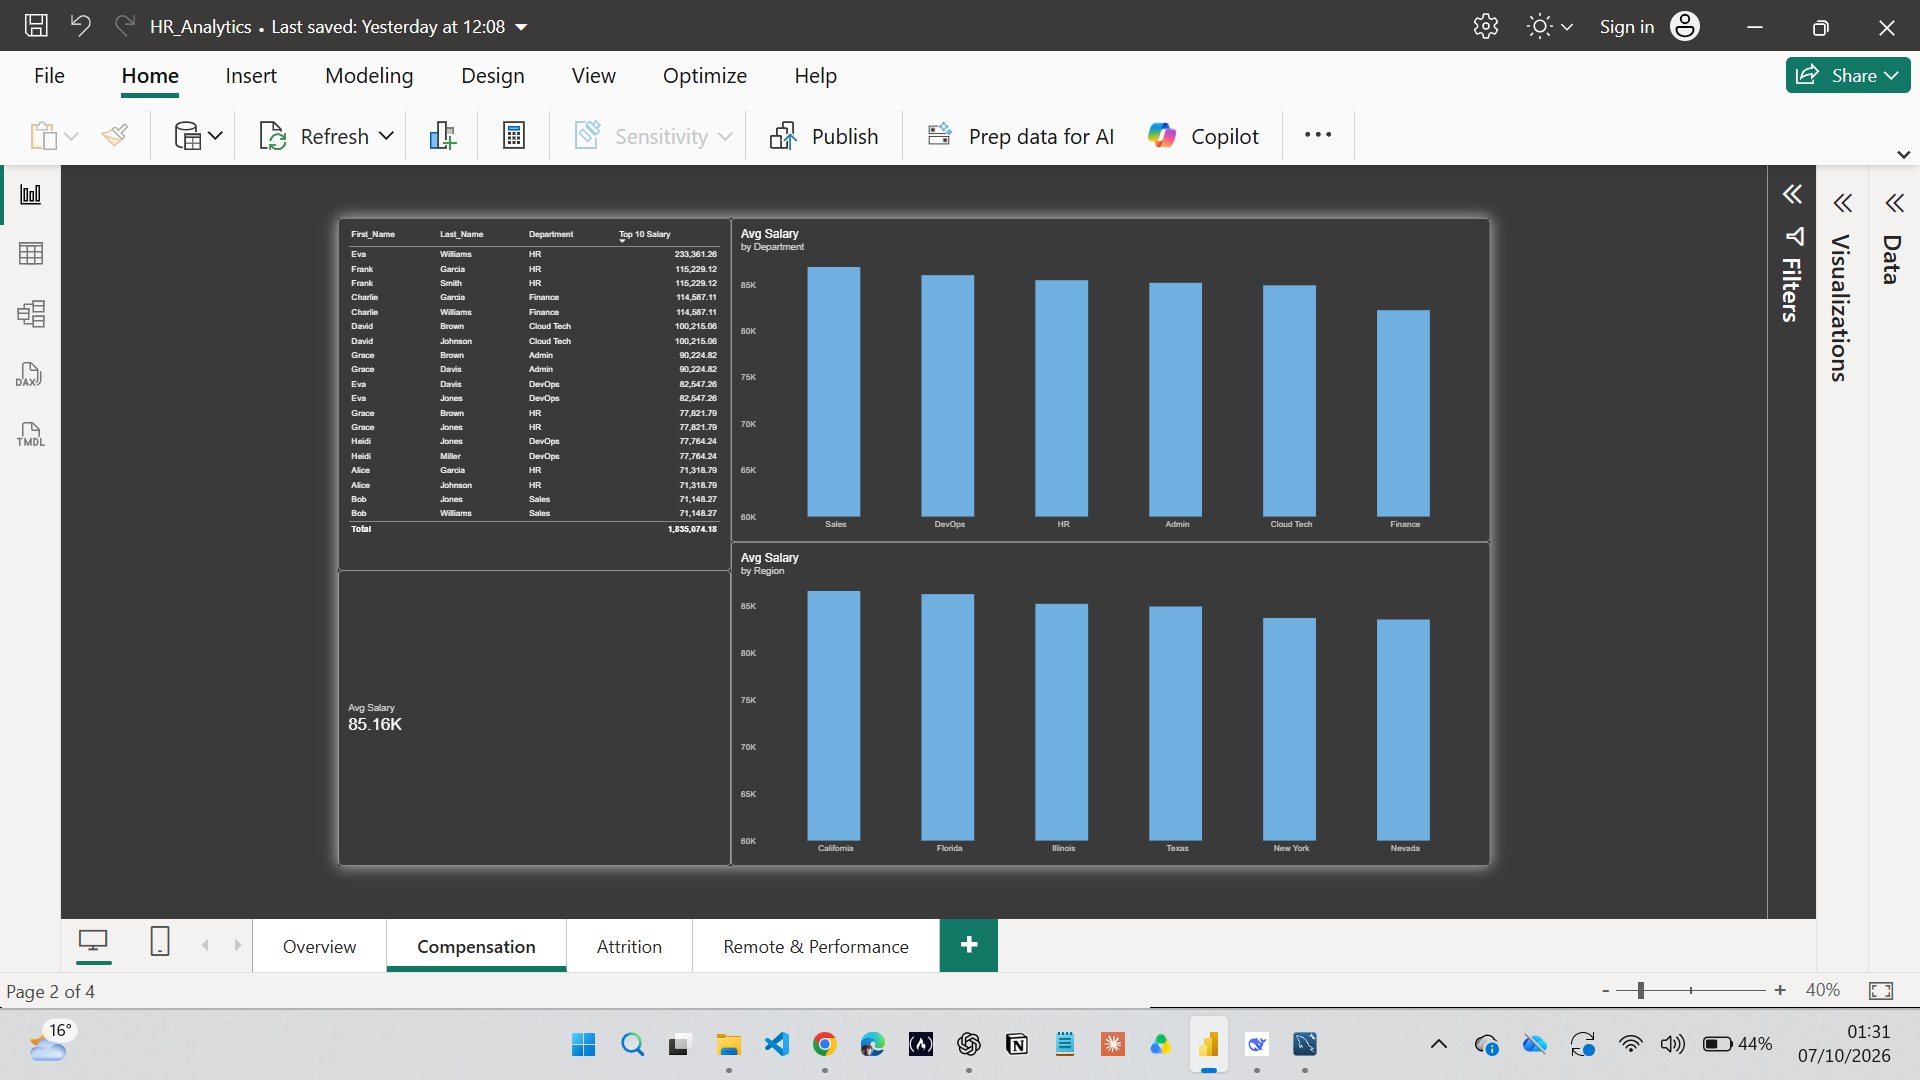

The dashboard page shown, as its layout file describes it:
{"tool":"powerbi","page":{"name":"Compensation","canvas":[1920,1080],"ordinal":1},"visuals":[{"type":"columnChart","fields":{"Category":["Employees.Department"],"Y":["Employees.Avg Salary"]},"box":[655,0,1265,540],"z":0},{"type":"cardVisual","fields":{"Data":["Employees.Avg Salary"]},"box":[0,587.5,655,492.5],"z":1},{"type":"columnChart","fields":{"Category":["Employees.Region"],"Y":["Employees.Avg Salary"]},"box":[655,540,1265,540],"z":2},{"type":"tableEx","fields":{"Values":["Employees.First_Name","Employees.Last_Name","Employees.Department","Sum(Employees.Salary)"]},"box":[0,0,655,587.5],"z":3}]}

Visuals, with their boxes on the page's 1920x1080 design canvas (x1, y1, x2, y2). These are canvas units, not pixel positions in the 1920x1080 screenshot, which may show the page scaled, cropped or inside an application window:
columnChart - Employees.Department x Employees.Avg Salary: region(655, 0, 1920, 540)
cardVisual - Employees.Avg Salary: region(0, 588, 655, 1080)
columnChart - Employees.Region x Employees.Avg Salary: region(655, 540, 1920, 1080)
tableEx - Employees.First_Name x Employees.Last_Name: region(0, 0, 655, 588)
